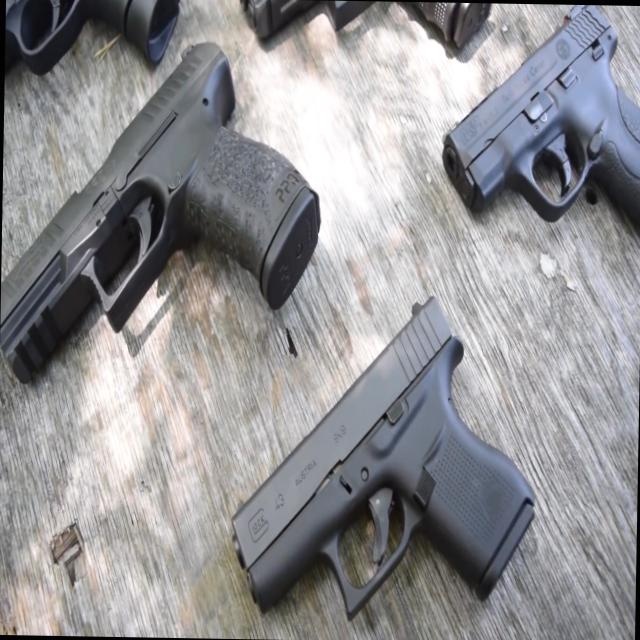handgun: (0, 30, 324, 499), (218, 279, 553, 639), (435, 2, 639, 259)
